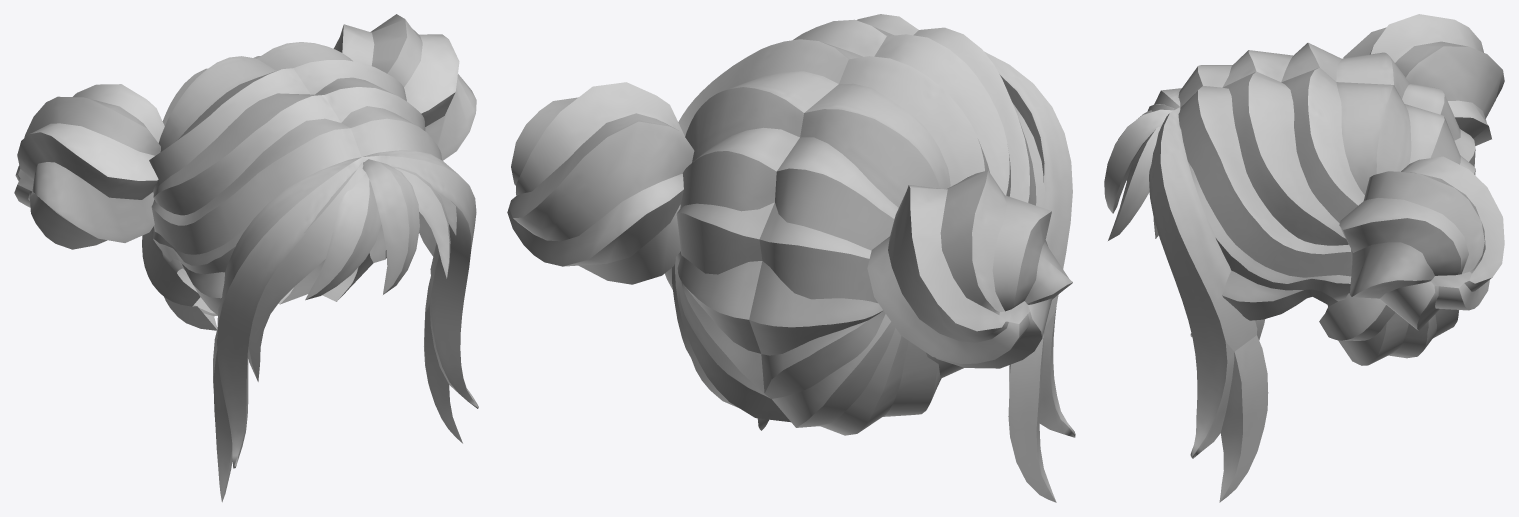
Rendered from buns_female.glb.
3 renders of one model, left to right at view 1: azimuth 30°, elevation 25°; view 2: azimuth 150°, elevation 25°; view 3: azimuth 270°, elevation 25°, orthographic. The views are drawn at different scales.
Parts seen in each view (by area): view 1: NativeHair_Buns_Female; view 2: NativeHair_Buns_Female; view 3: NativeHair_Buns_Female.
Part boxes in pixels (<box>): NativeHair_Buns_Female: <box>14,14,478,502</box>; NativeHair_Buns_Female: <box>507,14,1075,502</box>; NativeHair_Buns_Female: <box>1104,14,1504,502</box>.
Size of the model in its own units: 0.3015 by 0.2482 by 0.237.
Materials: 1 (1 with a texture image).
